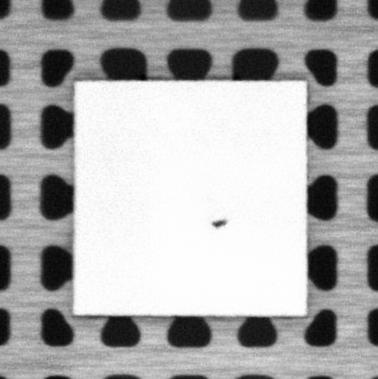DIE_INK: (211, 217, 227, 229)
